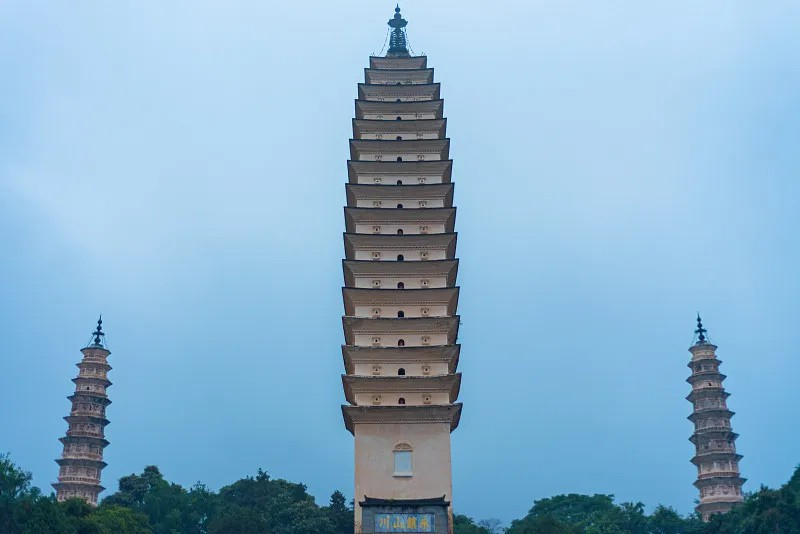ThreePagoda: (341, 4, 462, 534)
